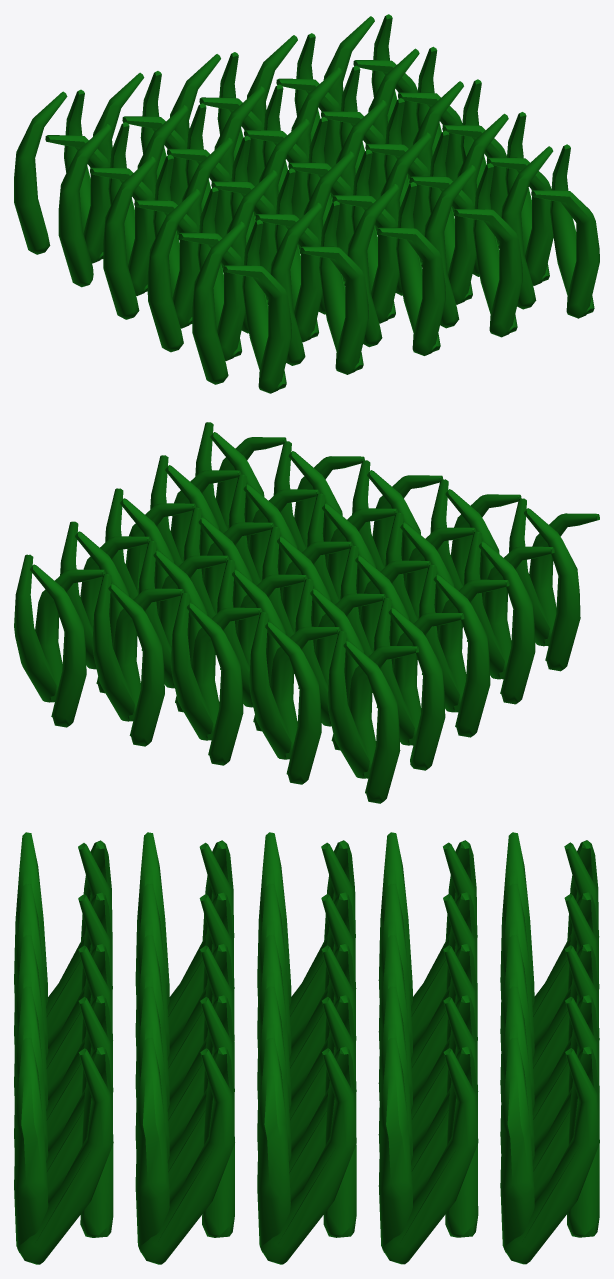
The model's file is grass.fbx.
3 views of the same model, one above another, from view 1: azimuth 30°, elevation 25°; view 2: azimuth 150°, elevation 25°; view 3: azimuth 270°, elevation 25° (orthographic). The views are drawn at different scales.
Parts seen in each view (by area): view 1: Grass; view 2: Grass; view 3: Grass.
Part boxes in pixels (x1,y1,x2,y2): Grass: (14,14,599,393); Grass: (14,422,599,803); Grass: (14,832,599,1264).
Bounding box in the file's own units: 371 × 147 × 361.
